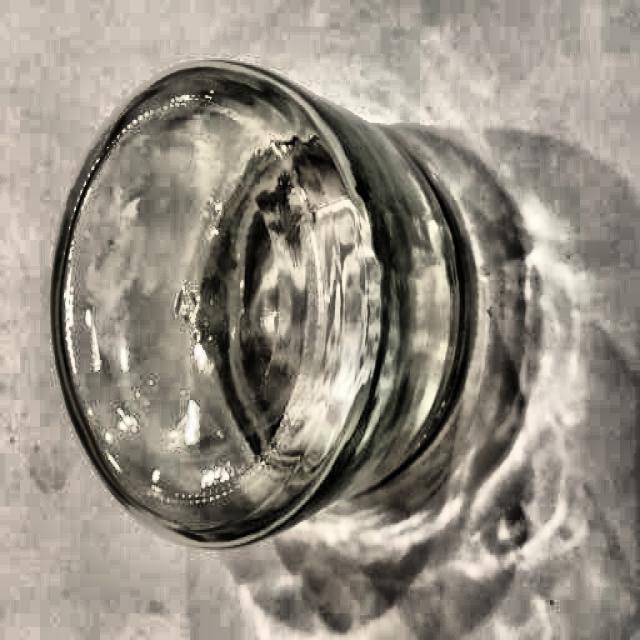glass: (49, 63, 473, 545)
